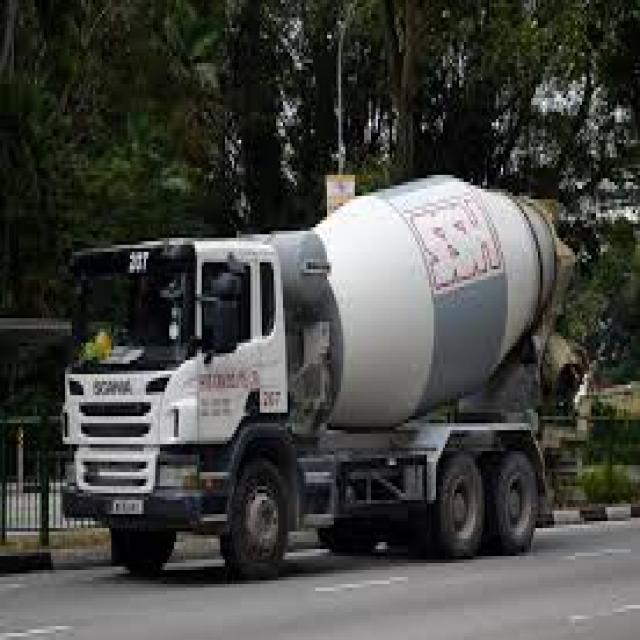Mixer Truck: (58, 172, 589, 581)
